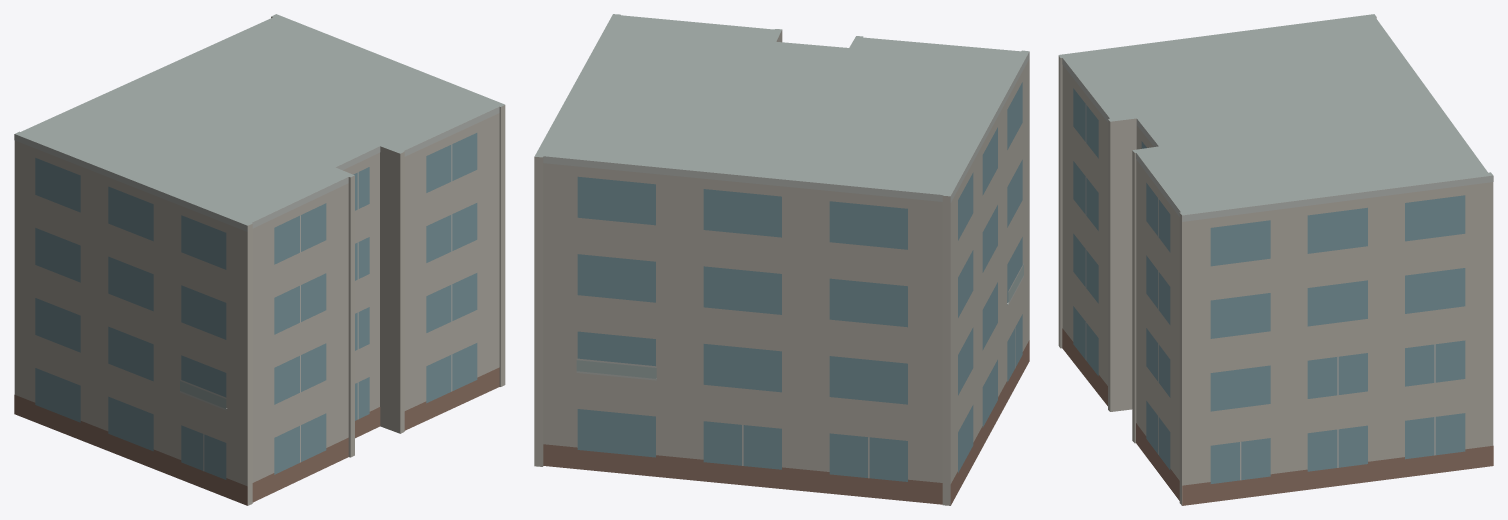
Rendered from survey-upis-32836400.glb.
3 renders of one model, left to right at view 1: azimuth 30°, elevation 25°; view 2: azimuth 150°, elevation 25°; view 3: azimuth 270°, elevation 25°, orthographic. The views are drawn at different scales.
Parts seen in each view (by area): view 1: survey-upis-32836400.tmp; view 2: survey-upis-32836400.tmp; view 3: survey-upis-32836400.tmp.
Boxes of the visible parts, x1,y1,x2,y2 form: survey-upis-32836400.tmp: (14, 14, 505, 505); survey-upis-32836400.tmp: (534, 14, 1029, 505); survey-upis-32836400.tmp: (1058, 14, 1493, 505).
Size of the model in its own units: 16.23 by 10.9 by 14.8.
